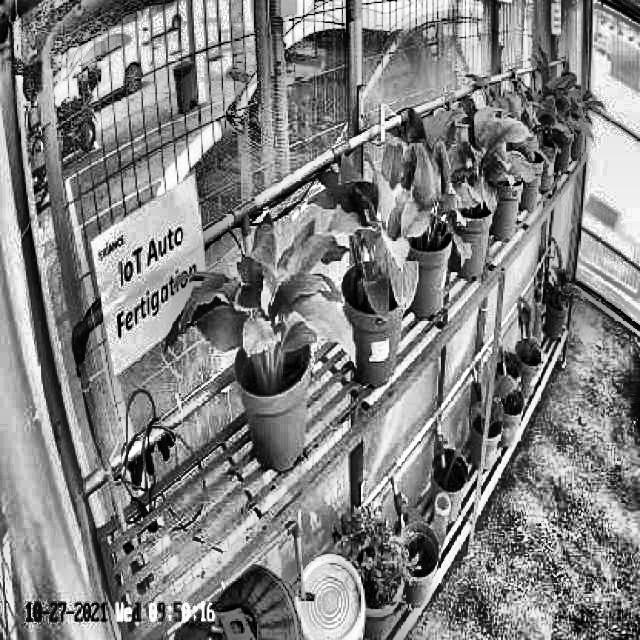plants: (168, 216, 360, 387), (312, 165, 418, 326), (383, 110, 471, 272), (433, 94, 539, 218)
